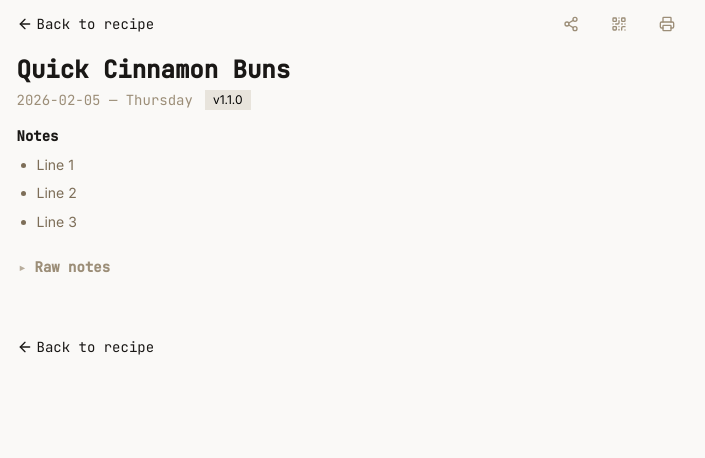
Test: BakeDetailView › raw notes disclosure (PF-177.5, Option C) › expands on toggle click — <pre> renders full notes[] joined by newlines
The image size is (705, 458).
Click the button with test id "raw-notes-toggle" at [63, 267], box [16, 258, 110, 276]
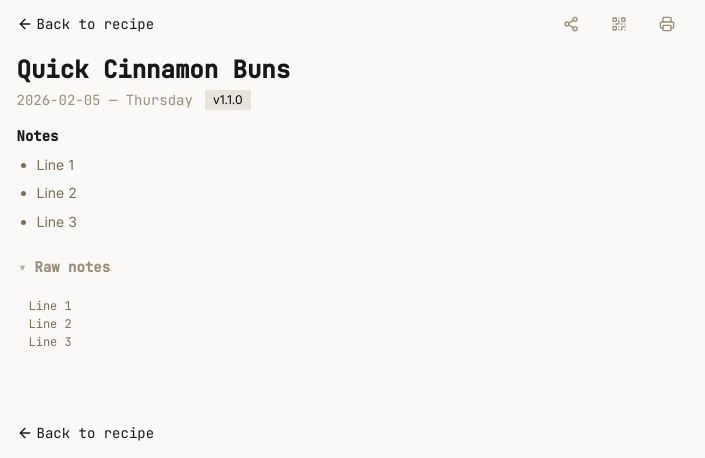
Expected: the text "Line 1 Line 2 Line 3" is shown, [16, 285, 688, 363]
Expected: the button with test id "raw-notes-toggle" is expanded, [16, 258, 110, 276]
